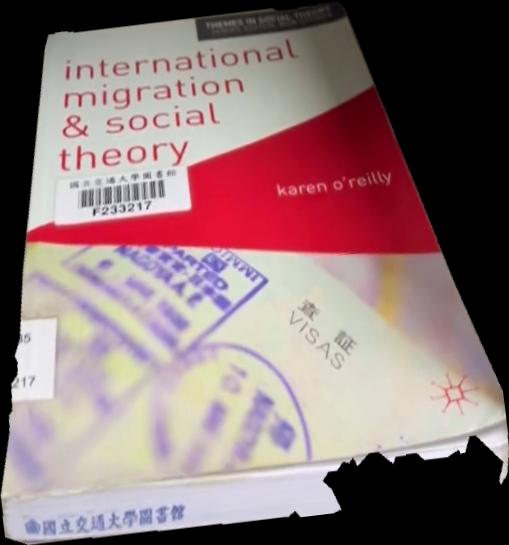flat: (1, 1, 509, 545)
